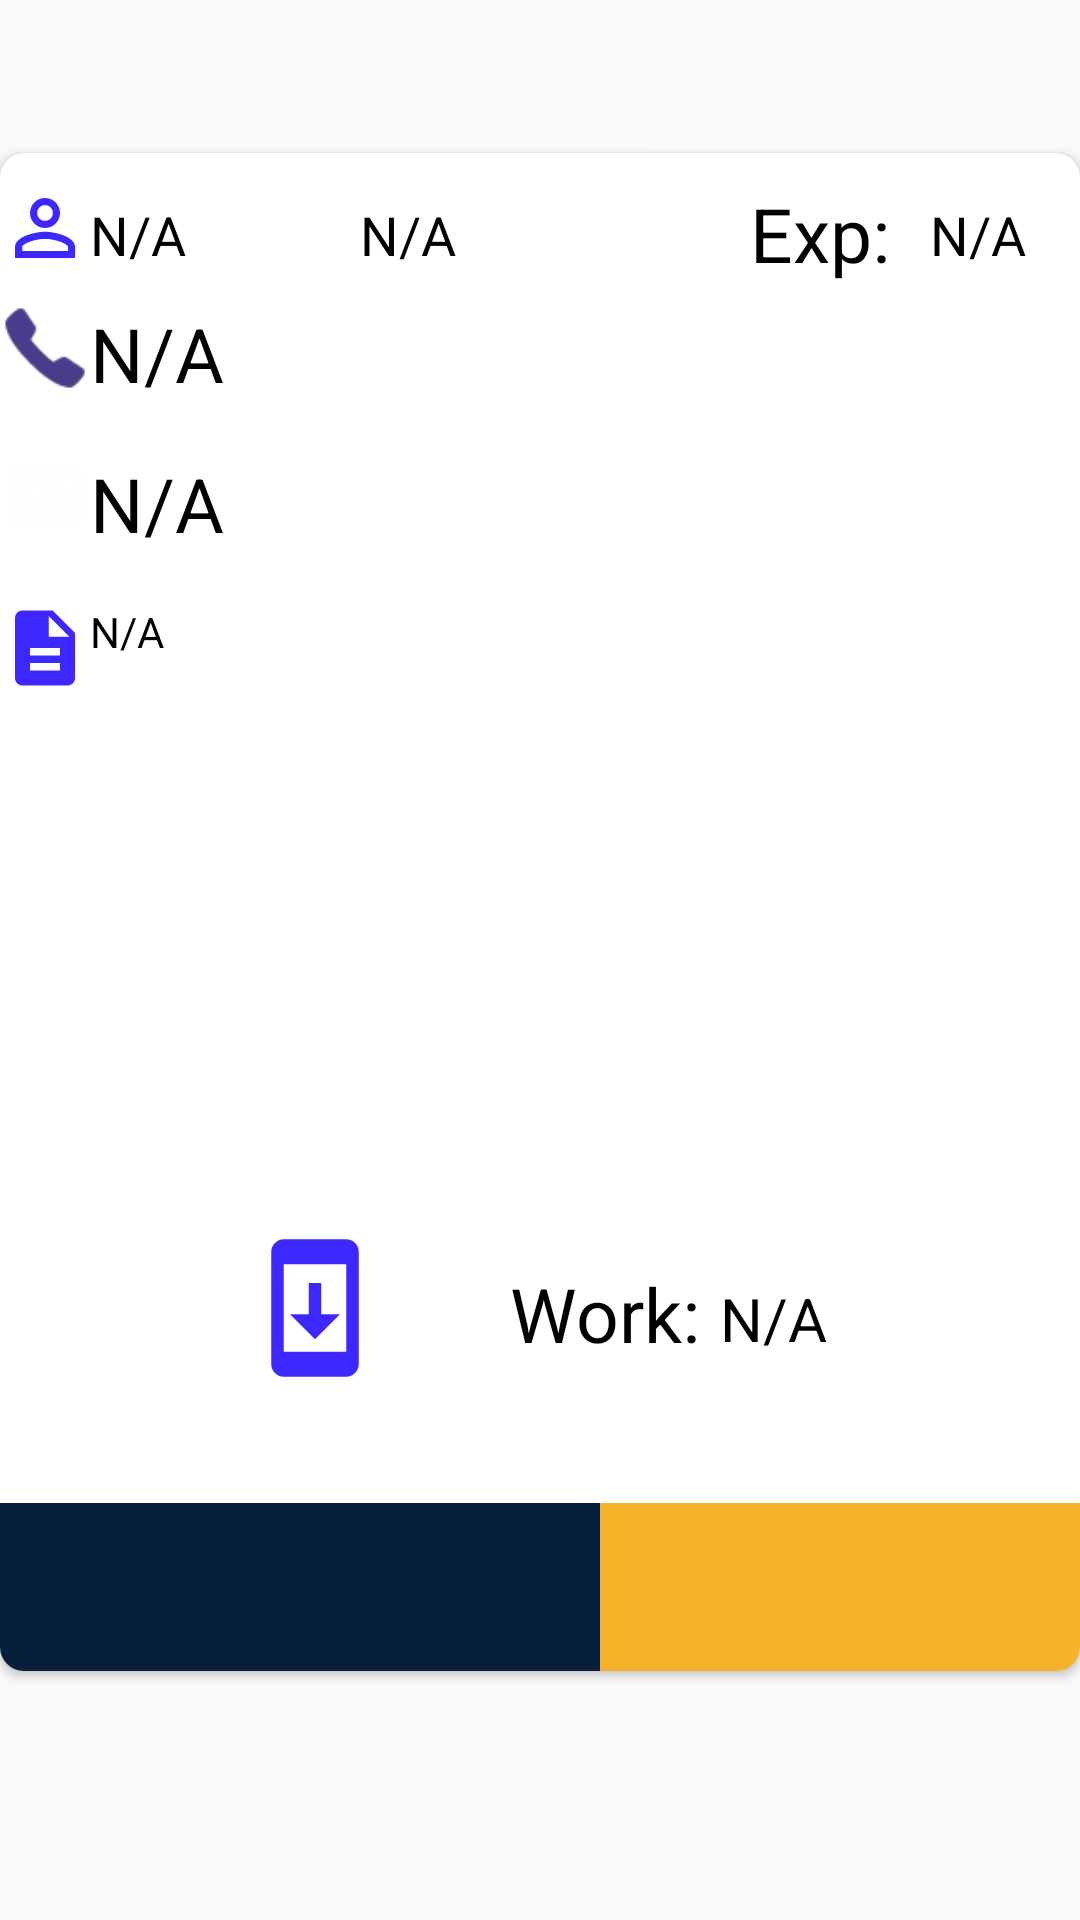

Point at icon controls on the screen. Image size 1080×1920, points as (x=x, y=y).
description: (x=45, y=648)
person: (x=45, y=228)
phone: (x=45, y=348)
